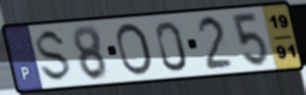0: (153, 19, 191, 73)
2: (197, 13, 235, 71)
5: (228, 9, 272, 68)
8: (71, 23, 110, 83)
O: (114, 22, 156, 78)
S: (35, 27, 74, 85)
